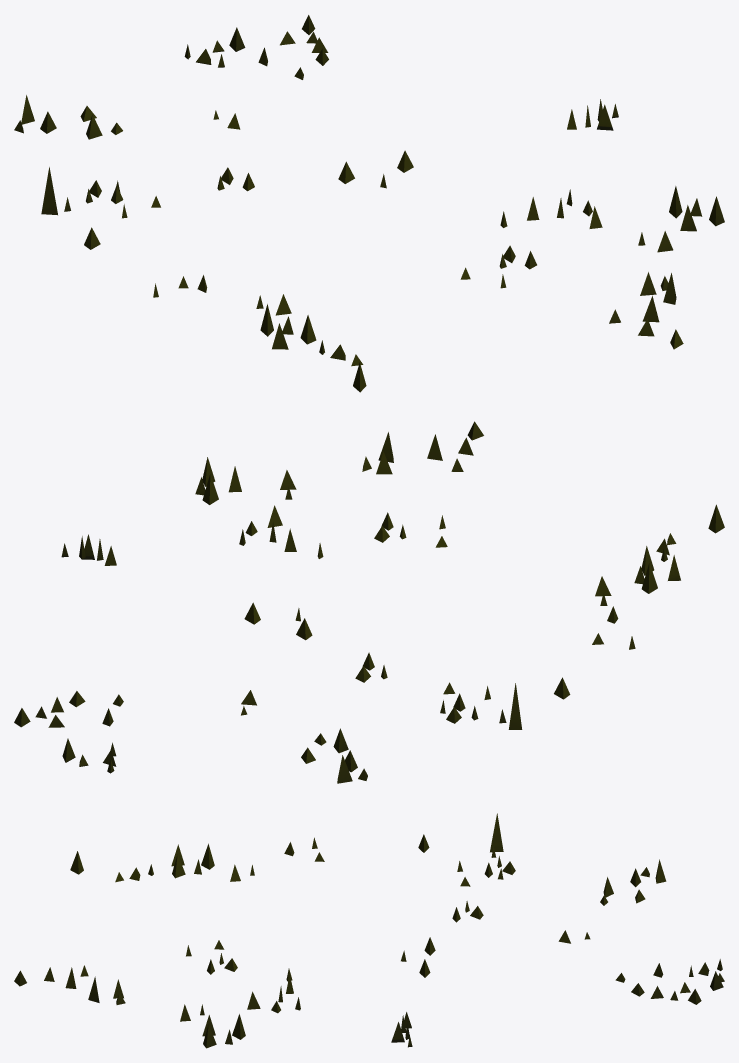
The model's file is Plant_01.FBX.
The picture shows the model from 3 angles, top to bottom: view 1: azimuth 30°, elevation 25°; view 2: azimuth 150°, elevation 25°; view 3: azimuth 270°, elevation 25°; orthographic projection. The views are drawn at different scales.
Visible parts, largest first — view 1: Plant_01; view 2: Plant_01; view 3: Plant_01.
Boxes of the visible parts, box(x1,y1,x2,y2) form: Plant_01: box(14, 15, 724, 392); Plant_01: box(14, 421, 724, 783); Plant_01: box(14, 813, 724, 1048).
Bounding box in the file's own units: 14.42 × 1.55 × 20.77.
